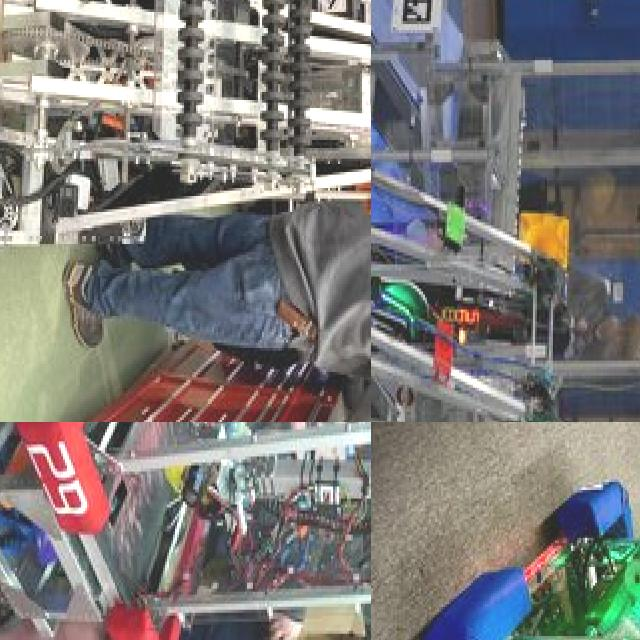FRC-Robots: (0, 0, 371, 345), (371, 23, 640, 422), (51, 422, 371, 640), (412, 449, 640, 640)
